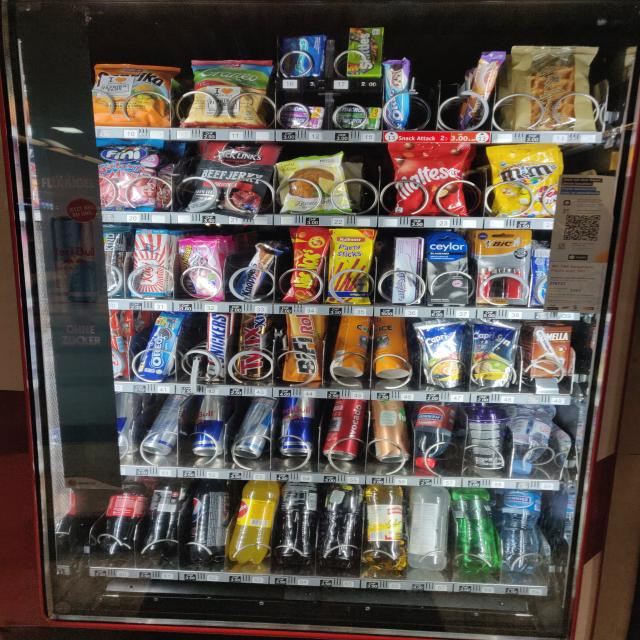airwaves_menthoneucalyptus_riegel_14_1_50173167: (275, 29, 331, 79)
bifi_roll__50__4251097402635: (282, 314, 326, 385)
c-swiss_dosenabisicetea__33__9120025930135: (328, 315, 374, 378), (370, 317, 415, 380)
caferoyal_classicmacchiato__33__7617014164487: (463, 408, 513, 468)
caprisun_multivitamin__20__4000177605004: (466, 320, 521, 388), (420, 318, 470, 388)
coke__dose_33__54491472: (320, 400, 368, 460)
coke__flasche_50__54491472: (96, 473, 149, 555)
coke_zero_flasche_50__5449000131836: (142, 481, 189, 554)
comella_schokodrink__33__7613100037253: (527, 325, 576, 381)
evian___50__3068320353500: (511, 404, 559, 474)
fini_galaxymix_packung_100_1_8410525150364: (92, 138, 164, 212)
fini_jellykisses_packung_80_1_8410525116704: (178, 236, 226, 301)
fuse_lemon__50__5449000235947: (316, 487, 366, 567)
fuse_peach__50__5449000236623: (278, 483, 324, 564)
fuse_peach_dose_33__5449000236623: (371, 401, 414, 463)
henniez_blau__33__7610235000442: (499, 488, 549, 578)
henniez_rot__33__7610235000442: (411, 401, 459, 470)
jacklinks_beefjerkyorginal__25__4047751730219: (189, 142, 279, 215)
jlbrichard_gauffre__90__5410495002000: (507, 40, 599, 131)
kagi_specialedition__50__7610046000259: (132, 227, 173, 298)
knoppers_riegel____4035800488808: (235, 244, 279, 301)
lorenz_nicnacs__40__4018077798818: (282, 228, 332, 303)
malburner_partysticks__40__7610200279682: (330, 228, 378, 304)
maltesers___100__5000159023061: (392, 140, 475, 218)
mnms_gelb__45__40111445: (490, 141, 566, 217)
oreo___66__84100733: (136, 314, 183, 378)
pepsi_max__50__4060800105943: (190, 480, 230, 560)
ramseier_schorle__50__7610057012456: (364, 485, 407, 568)
redbull___33__90162909: (141, 395, 190, 456), (190, 396, 230, 459), (278, 394, 318, 456), (111, 391, 140, 459)
redbull_light__33__90162800: (232, 395, 280, 460)
sinalco_orange__50__4018715000112: (228, 482, 280, 564)
skittles_sour_riegel_51_1_0000000000004: (348, 24, 386, 77)
snickers___50__5000159461122: (200, 312, 231, 381)
stimorol_spearmint_riegel_14_1_0000000000005: (332, 105, 380, 128)
stimorol_wildcherry_riegel_14_1_57060330: (280, 104, 326, 128)
twix___50__5000159459228: (233, 310, 274, 377)
valser_classic__50__76404160: (449, 488, 501, 574)
vitaminwell_reload__50__7350042716388: (406, 484, 454, 574)
zweifel_graneochilli__100__7610095184009: (182, 57, 277, 126)
zweifel_paprika__90__7610095013002: (87, 60, 178, 126)
